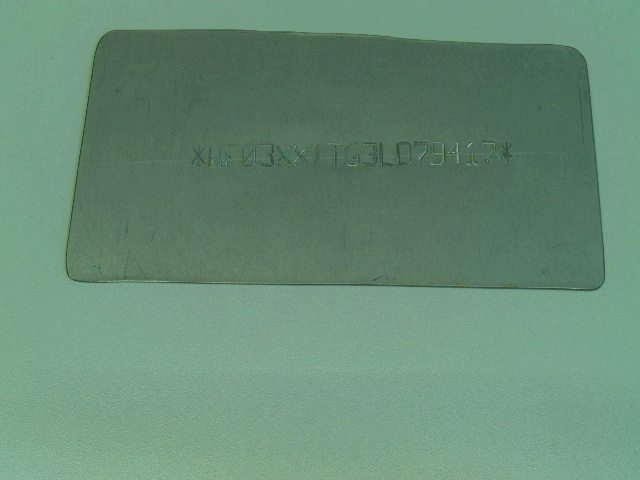0: (240, 143, 257, 167)
1: (466, 141, 478, 168)
3: (258, 140, 276, 168), (361, 141, 378, 167)
4: (448, 140, 464, 168)
7: (479, 138, 498, 169), (413, 139, 428, 168)
9: (428, 140, 447, 167)
d: (394, 140, 413, 168)
f: (223, 144, 238, 168)
g: (344, 141, 362, 168)
l: (378, 140, 394, 167)
t: (326, 142, 342, 167), (310, 141, 325, 165)
w: (207, 144, 225, 168)
x: (292, 142, 311, 167), (276, 143, 292, 168)
